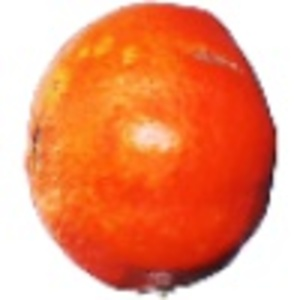tangerina: (23, 1, 280, 300)
